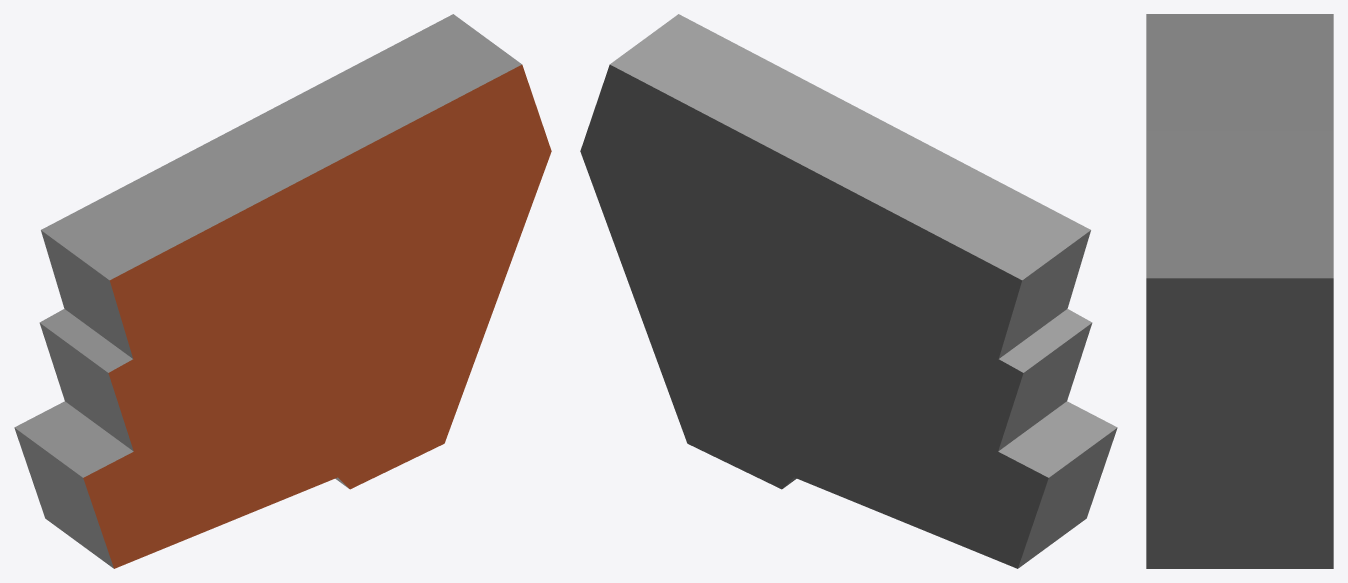
Rendered from construction_6346_assumed_A_Casa_h6m.obj.
3 renders of one model, left to right at view 1: azimuth 30°, elevation 25°; view 2: azimuth 150°, elevation 25°; view 3: azimuth 270°, elevation 25°, orthographic. The views are drawn at different scales.
Visible parts, largest first — view 1: construction_6346_assumed_A_Casa; view 2: construction_6346_assumed_A_Casa; view 3: construction_6346_assumed_A_Casa.
Boxes of the visible parts, left/top/right/bottom form: construction_6346_assumed_A_Casa: left=14, top=14, right=551, bottom=568; construction_6346_assumed_A_Casa: left=580, top=14, right=1117, bottom=568; construction_6346_assumed_A_Casa: left=1146, top=14, right=1333, bottom=568.
Bounding box in the file's own units: 23.55 × 19.46 × 6.
